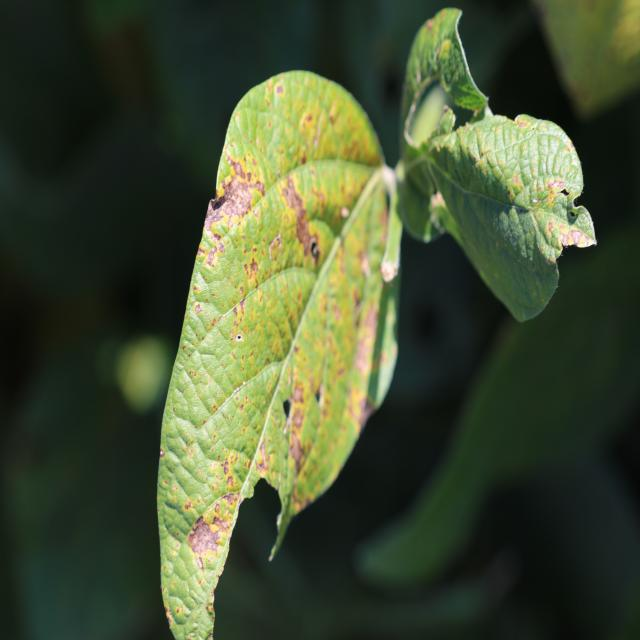Bacterial_Blight: (280, 179, 322, 270), (209, 170, 256, 230), (353, 298, 380, 387), (285, 387, 311, 473), (187, 514, 224, 564), (559, 224, 595, 250), (229, 156, 251, 182), (359, 250, 371, 276), (247, 255, 259, 280), (430, 191, 444, 210), (546, 177, 564, 191), (204, 247, 217, 266), (292, 385, 304, 405), (223, 492, 238, 508), (317, 385, 325, 407), (468, 150, 480, 163), (516, 118, 531, 128), (216, 183, 225, 198), (512, 174, 522, 187), (546, 220, 555, 234), (238, 297, 246, 312), (340, 206, 350, 218), (226, 474, 235, 487), (194, 303, 204, 314), (516, 206, 528, 215), (275, 84, 284, 95), (198, 245, 206, 256), (184, 500, 192, 511), (507, 188, 514, 200), (223, 463, 230, 474), (233, 305, 238, 317), (236, 334, 243, 341), (159, 449, 164, 457)
Soybean: (157, 71, 402, 640)
